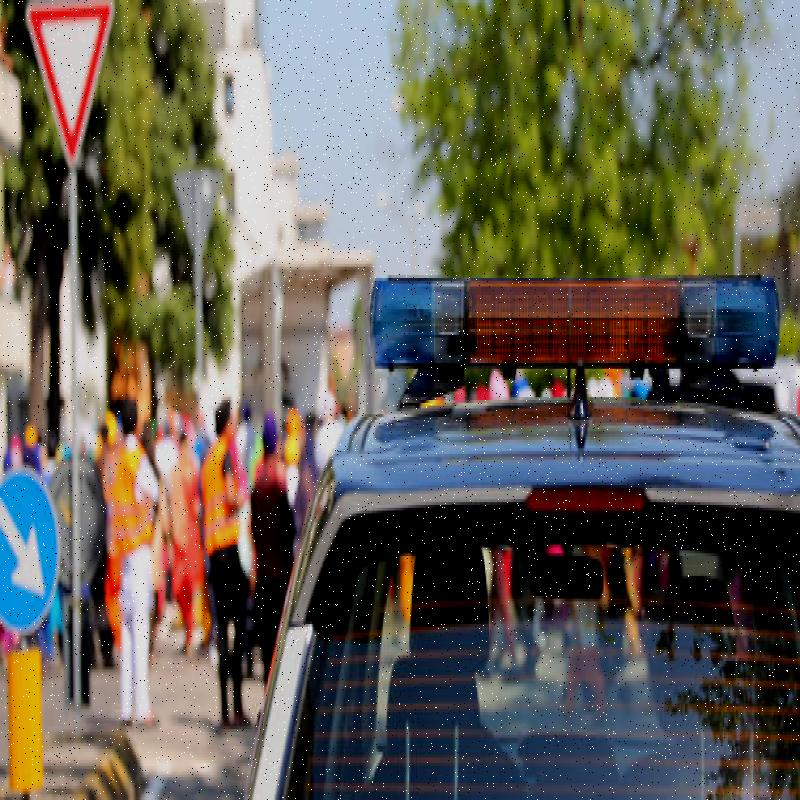AmbulanceSiren: (353, 222, 784, 434)
